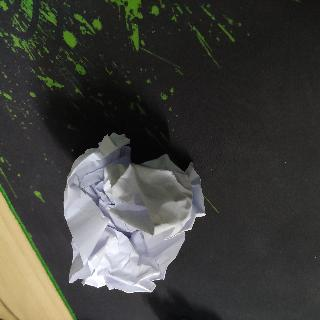8/可回收垃圾/纸: (62, 131, 207, 295)
